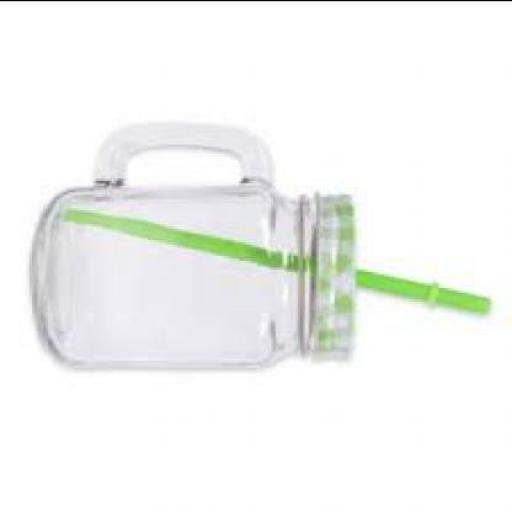glass: (34, 125, 357, 376)
metal: (316, 198, 355, 364)
